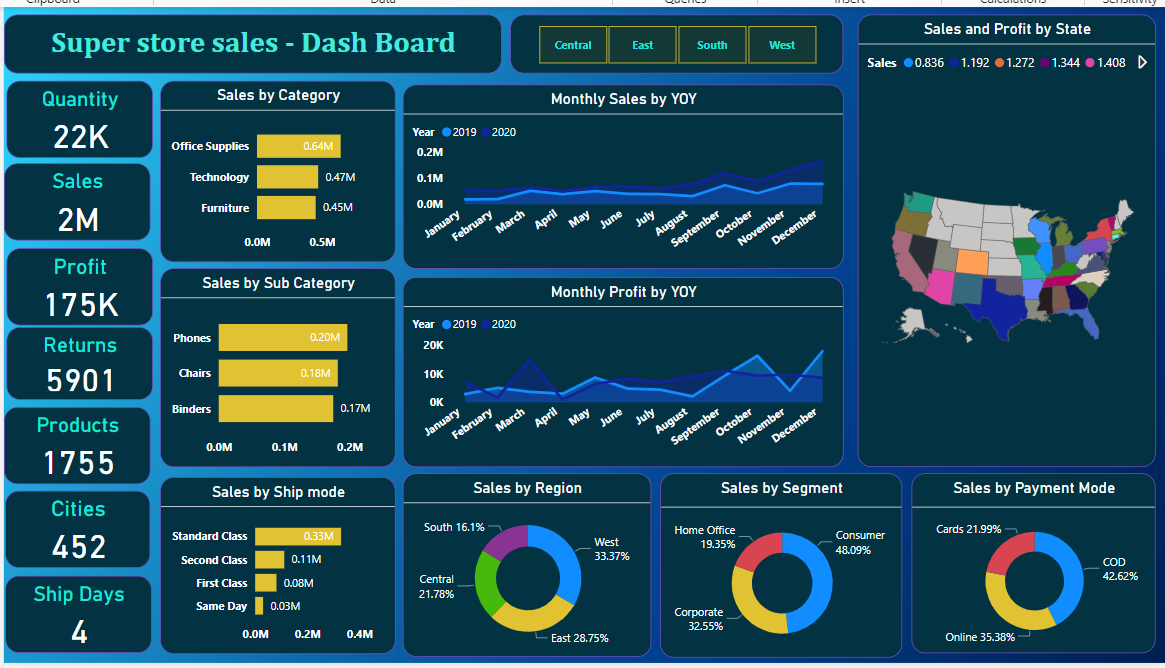

Layout of this report page (visuals, bound fields, positions):
{"tool":"powerbi","page":{"name":"Dash Board","canvas":[1280,720],"ordinal":0},"visuals":[{"type":"clusteredBarChart","title":" Sales by Category","fields":{"Category":["SuperStore_Sales_Dataset.Category"],"Y":["Sum(SuperStore_Sales_Dataset.Sales)"]},"box":[171.3,80.8,258.2,199.1],"z":0},{"type":"clusteredBarChart","title":" Sales by Sub Category","fields":{"Y":["Sum(SuperStore_Sales_Dataset.Sales)"],"Category":["SuperStore_Sales_Dataset.Sub-Category"]},"box":[171.5,296.4,258,208.6],"z":1000},{"type":"clusteredBarChart","title":" Sales by Ship mode","fields":{"Y":["Sum(SuperStore_Sales_Dataset.Sales)"],"Category":["SuperStore_Sales_Dataset.Ship Mode"]},"box":[171.3,516.4,258.2,194.2],"z":2000},{"type":"areaChart","title":"Monthly Sales by YOY","fields":{"Category":["SuperStore_Sales_Dataset.Order Date.Variation.Date Hierarchy.Month","SuperStore_Sales_Dataset.Order Date.Variation.Date Hierarchy.Day"],"Y":["Sum(SuperStore_Sales_Dataset.Sales)"],"Series":["SuperStore_Sales_Dataset.Order Date.Variation.Date Hierarchy.Year"]},"box":[437.7,85.1,484.4,194.9],"z":3000},{"type":"areaChart","title":"Monthly Profit by YOY","fields":{"Category":["SuperStore_Sales_Dataset.Order Date.Variation.Date Hierarchy.Month"],"Series":["SuperStore_Sales_Dataset.Order Date.Variation.Date Hierarchy.Year"],"Y":["Sum(SuperStore_Sales_Dataset.Profit)"]},"box":[437.7,296.4,484.4,208.6],"z":4000},{"type":"shapeMap","title":"Sales and Profit by State ","fields":{"Category":["SuperStore_Sales_Dataset.State"],"Value":["Sum(SuperStore_Sales_Dataset.Sales)"],"Series":["SuperStore_Sales_Dataset.Sales"]},"box":[937.2,8.2,326.6,496.7],"z":5000},{"type":"donutChart","title":"Sales by Segment","fields":{"Category":["SuperStore_Sales_Dataset.Segment"],"Y":["Sum(SuperStore_Sales_Dataset.Sales)"]},"box":[720.4,516,264.8,197.6],"z":6000},{"type":"donutChart","title":"Sales by Payment Mode","fields":{"Category":["SuperStore_Sales_Dataset.Payment Mode"],"Y":["Sum(SuperStore_Sales_Dataset.Sales)"]},"box":[996.2,516,267.6,193.5],"z":7000},{"type":"slicer","fields":{"Values":["SuperStore_Sales_Dataset.Region"]},"box":[556.2,8.4,365.6,65.1],"z":8000},{"type":"textbox","box":[0,8.4,546.5,65.1],"z":9000},{"type":"card","title":"Sales","fields":{"Values":["Sum(SuperStore_Sales_Dataset.Sales)"]},"box":[0,171.3,160.5,84.5],"z":10000},{"type":"card","title":"Quantity","fields":{"Values":["Sum(SuperStore_Sales_Dataset.Quantity)"]},"box":[2.4,80.8,160.5,84.5],"z":11000},{"type":"card","title":"Profit","fields":{"Values":["Sum(SuperStore_Sales_Dataset.Profit)"]},"box":[2.4,264.2,160.5,84.5],"z":12000},{"type":"card","title":"Ship Days","fields":{"Values":["Avg(SuperStore_Sales_Dataset.Average_delivery)"]},"box":[1.2,624.9,160.5,84.5],"z":13000},{"type":"donutChart","title":"Sales by Region","fields":{"Category":["SuperStore_Sales_Dataset.Region"],"Y":["Sum(SuperStore_Sales_Dataset.Sales)"]},"box":[437.7,516,273.1,197.6],"z":14000},{"type":"card","title":"Cities","fields":{"Values":["Count(SuperStore_Sales_Dataset.City)"]},"box":[1.2,530.8,159.3,84.5],"z":15000},{"type":"card","title":"Products","fields":{"Values":["Count(SuperStore_Sales_Dataset.Product ID)"]},"box":[0,439.1,160.5,84.5],"z":16000},{"type":"card","title":"Returns","fields":{"Values":["CountNonNull(SuperStore_Sales_Dataset.Returns)"]},"box":[2.4,351.1,160.5,79.6],"z":17000}]}

Visuals, with their boxes on the page's 1280x720 design canvas (x1, y1, x2, y2). These are canvas units, not pixel positions in the 1165x668 screenshot, which may show the page scaled, cropped or inside an application window:
" Sales by Category" clusteredBarChart: x1=171, y1=81, x2=430, y2=280
" Sales by Sub Category" clusteredBarChart: x1=172, y1=296, x2=430, y2=505
" Sales by Ship mode" clusteredBarChart: x1=171, y1=516, x2=430, y2=711
"Monthly Sales by YOY" areaChart: x1=438, y1=85, x2=922, y2=280
"Monthly Profit by YOY" areaChart: x1=438, y1=296, x2=922, y2=505
"Sales and Profit by State " shapeMap: x1=937, y1=8, x2=1264, y2=505
"Sales by Segment" donutChart: x1=720, y1=516, x2=985, y2=714
"Sales by Payment Mode" donutChart: x1=996, y1=516, x2=1264, y2=710
slicer - SuperStore_Sales_Dataset.Region: x1=556, y1=8, x2=922, y2=74
textbox: x1=0, y1=8, x2=546, y2=74
"Sales" card: x1=0, y1=171, x2=160, y2=256
"Quantity" card: x1=2, y1=81, x2=163, y2=165
"Profit" card: x1=2, y1=264, x2=163, y2=349
"Ship Days" card: x1=1, y1=625, x2=162, y2=709
"Sales by Region" donutChart: x1=438, y1=516, x2=711, y2=714
"Cities" card: x1=1, y1=531, x2=160, y2=615
"Products" card: x1=0, y1=439, x2=160, y2=524
"Returns" card: x1=2, y1=351, x2=163, y2=431
